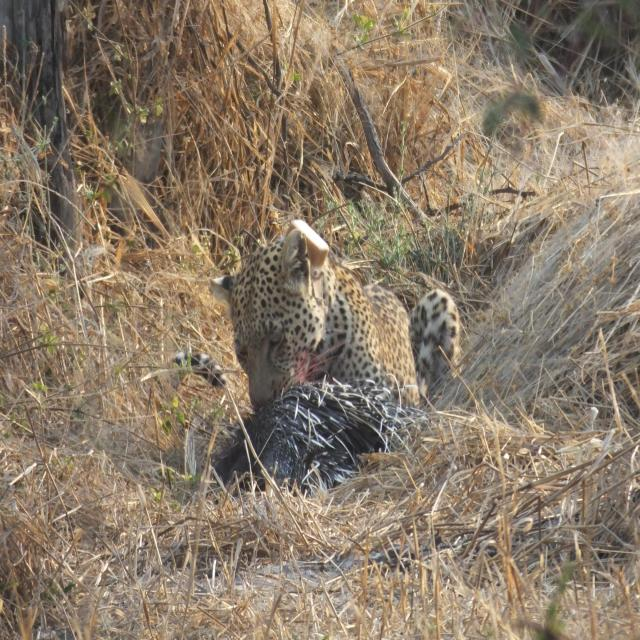Leopard: (157, 222, 462, 420)
